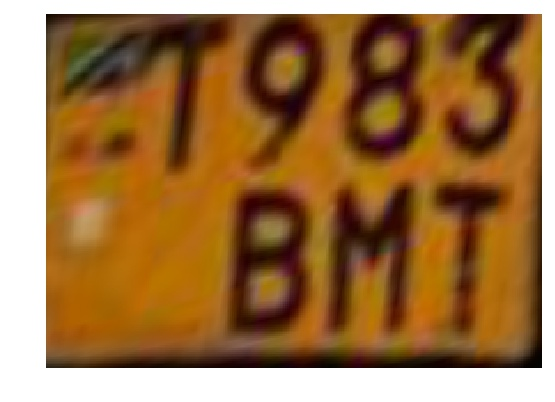T: (424, 171, 522, 342), (145, 12, 237, 173)
